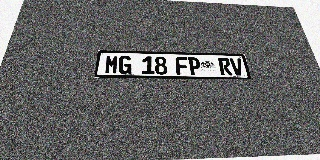plate: (94, 50, 251, 79)
